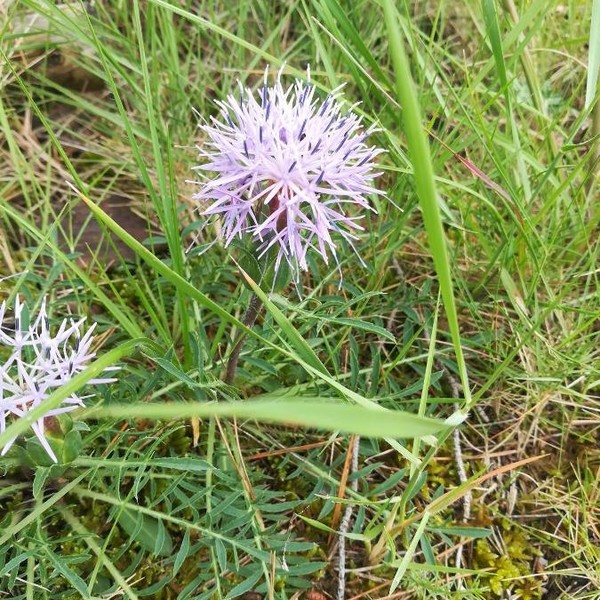obstacle: (140, 36, 483, 451)
